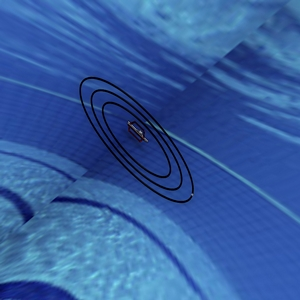circle: (66, 53, 203, 219)
submarine: (117, 116, 151, 149)
